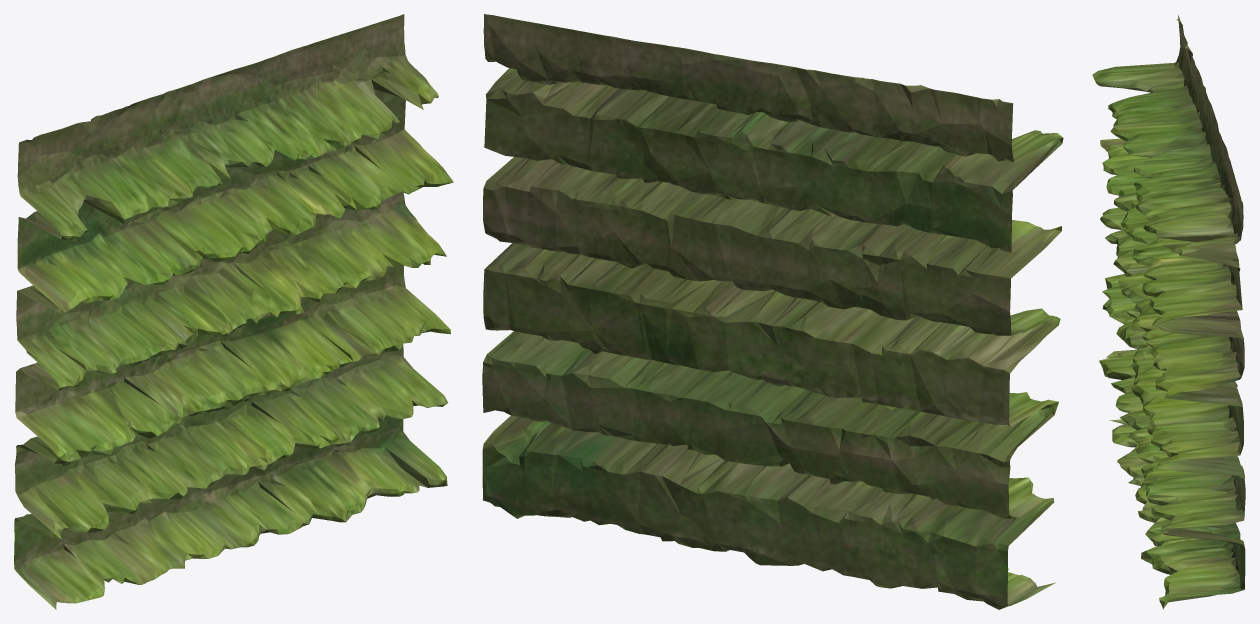
File: map_30_60.obj
The picture shows the model from 3 angles, left to right: view 1: azimuth 30°, elevation 25°; view 2: azimuth 150°, elevation 25°; view 3: azimuth 270°, elevation 25°; orthographic projection. The views are drawn at different scales.
Parts seen in each view (by area): view 1: grp1; view 2: grp1; view 3: grp1.
Boxes of the visible parts, box(x1,y1,x2,y2) form: grp1: box(14, 14, 453, 609); grp1: box(482, 14, 1063, 609); grp1: box(1092, 14, 1245, 609).
Size of the model in its own units: 10 by 10 by 3.42.
1 material, 1 textured.
